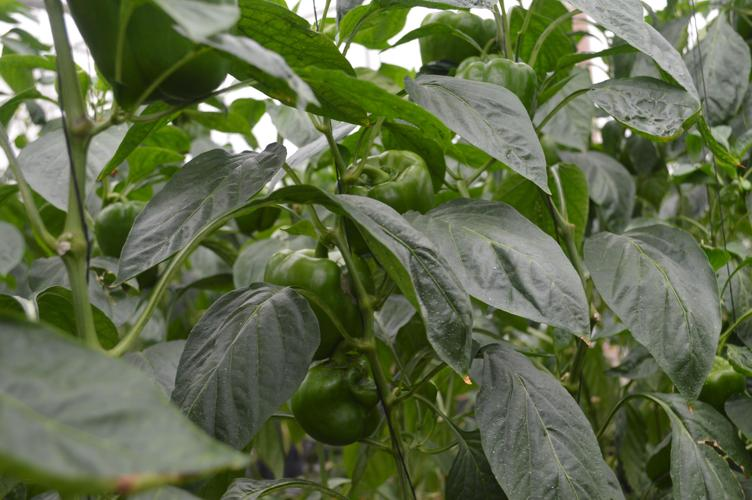BellPepper: (280, 350, 381, 452), (257, 253, 359, 344), (90, 196, 177, 290), (448, 53, 544, 126), (336, 157, 433, 212)
